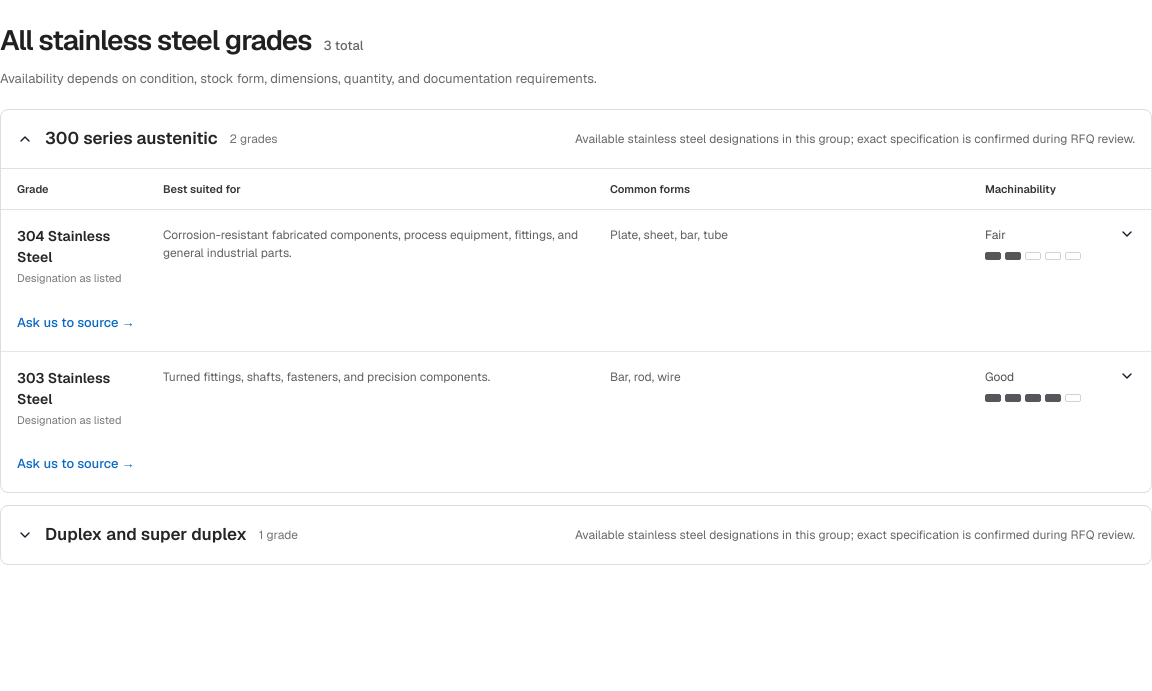
MaterialGradeDirectory › uses researched stainless machining profiles instead of an unsupported fallback
The image size is (1152, 691).
Expected: the button "303 Stainless Steel" shows "Good", [1,352,1151,444]
Expected: the button "304 Stainless Steel" shows "Fair", [1,210,1151,302]
Click the button "Duplex and super duplex" at (576, 535), box [1,506,1151,564]
(page scrolled)
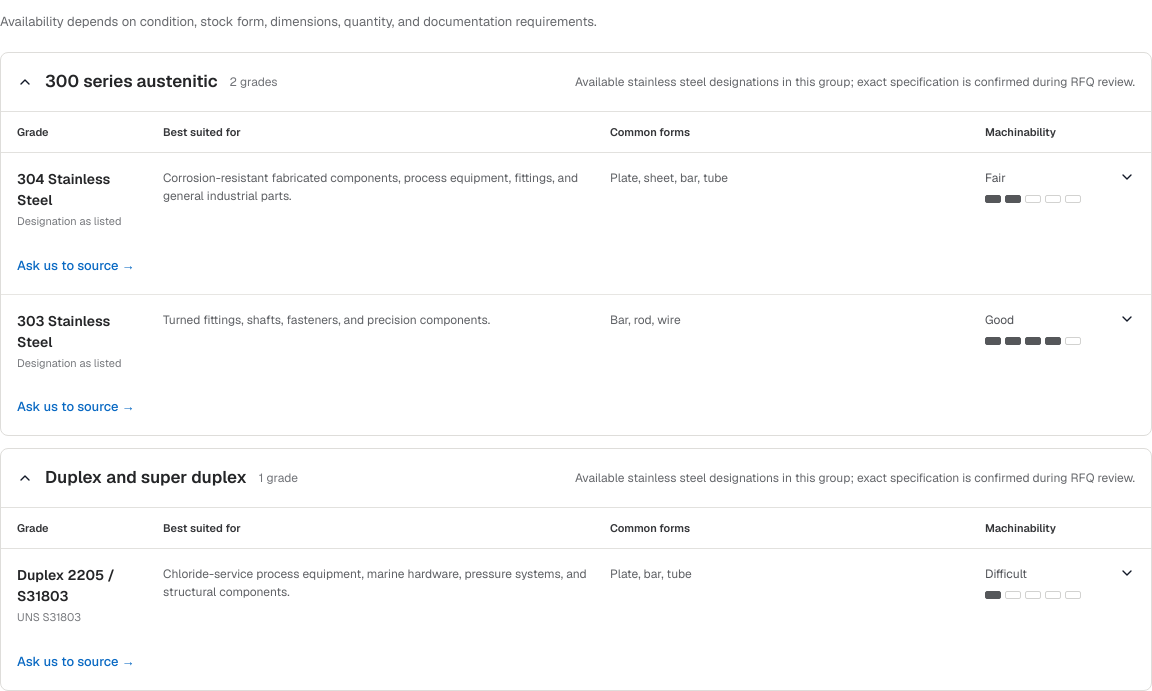
Now the button "Duplex 2205" shows "Difficult", box [1,549,1151,642]
